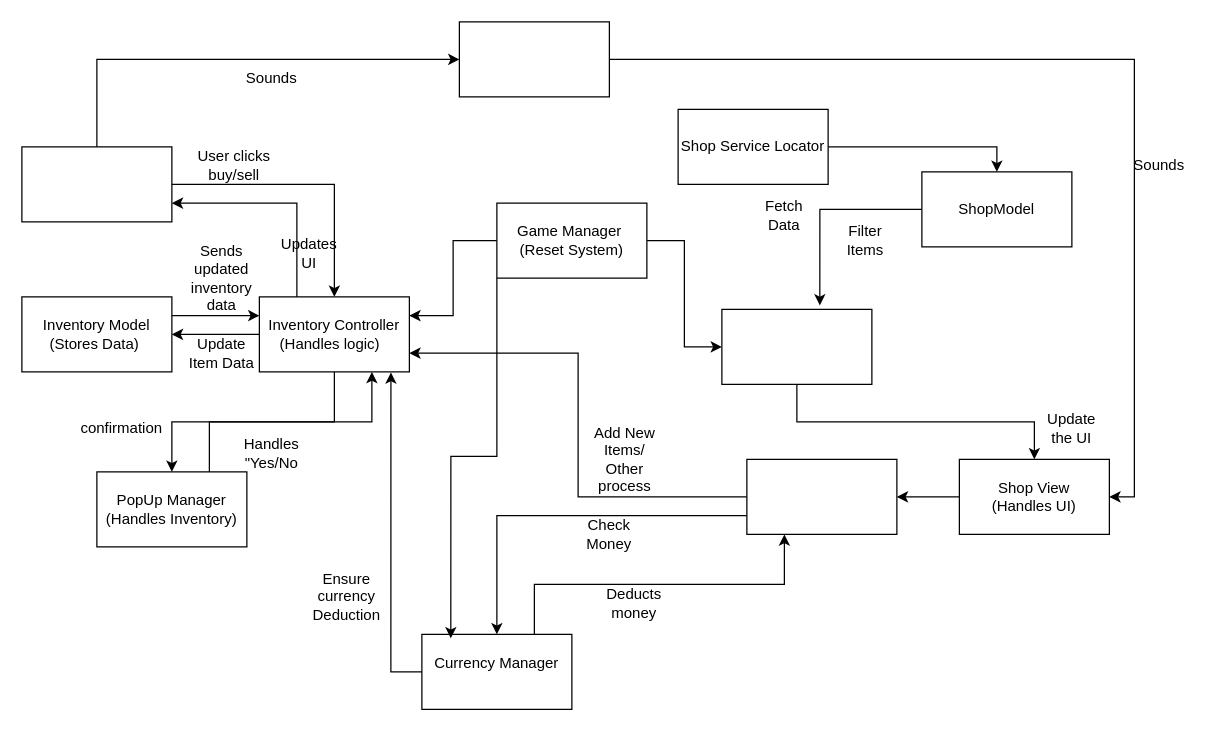
The diagram is 1219 pixels wide and 731 high, and some of its shapes have lost their labels. The shapes that lost their labels are listed below. From the top down, each one's centre as x and y in pixels, then its label:
[533,59]: Sound Manager
[96,184]: Inventory View (Handles UI)
[796,346]: Shop Controller (Handles logic)
[821,496]: Shop Popup Manager (Handles Shop)
